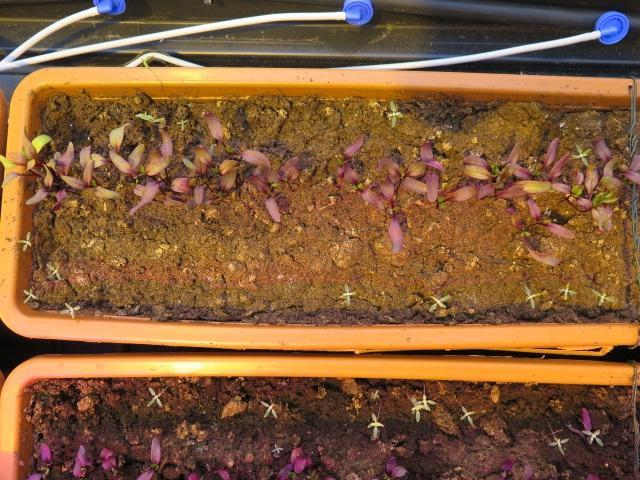weed: (589, 282, 616, 308), (364, 408, 384, 443), (423, 291, 451, 313), (385, 97, 403, 130), (521, 281, 541, 310), (143, 382, 163, 410), (545, 434, 568, 458), (13, 227, 32, 256), (555, 278, 577, 303), (457, 402, 477, 428), (338, 280, 357, 307), (257, 397, 278, 421), (57, 298, 81, 319), (19, 284, 38, 307), (44, 258, 61, 282), (269, 437, 285, 457)
